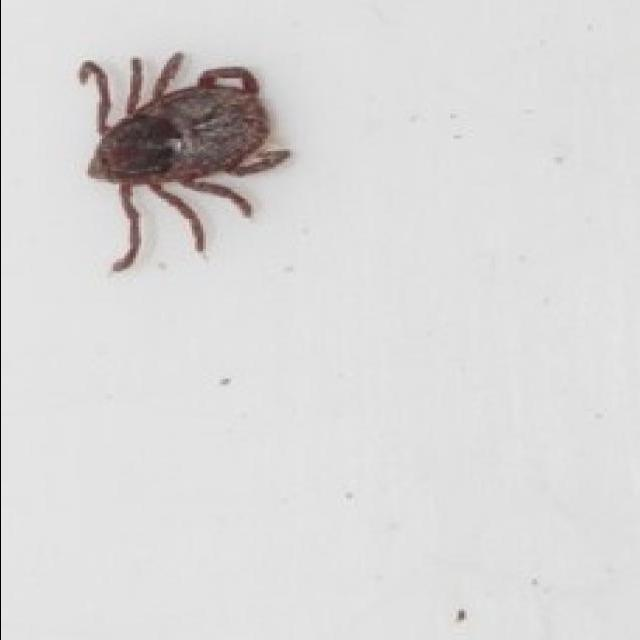Rhipicephalus Sanguineus-F: (76, 51, 292, 273)
